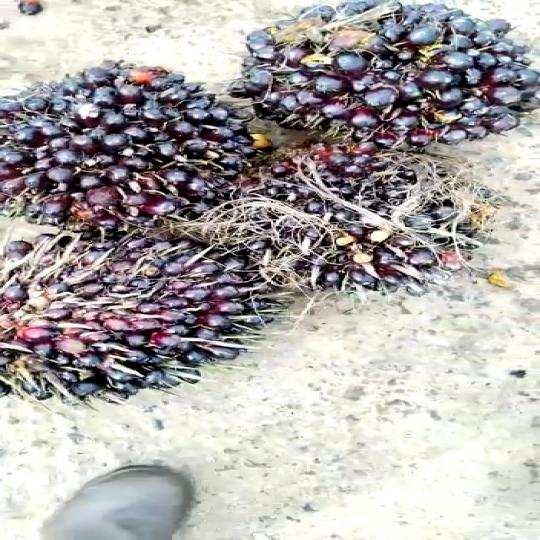mentah: (211, 0, 540, 163), (0, 214, 300, 382), (0, 45, 268, 222), (232, 143, 485, 290)
